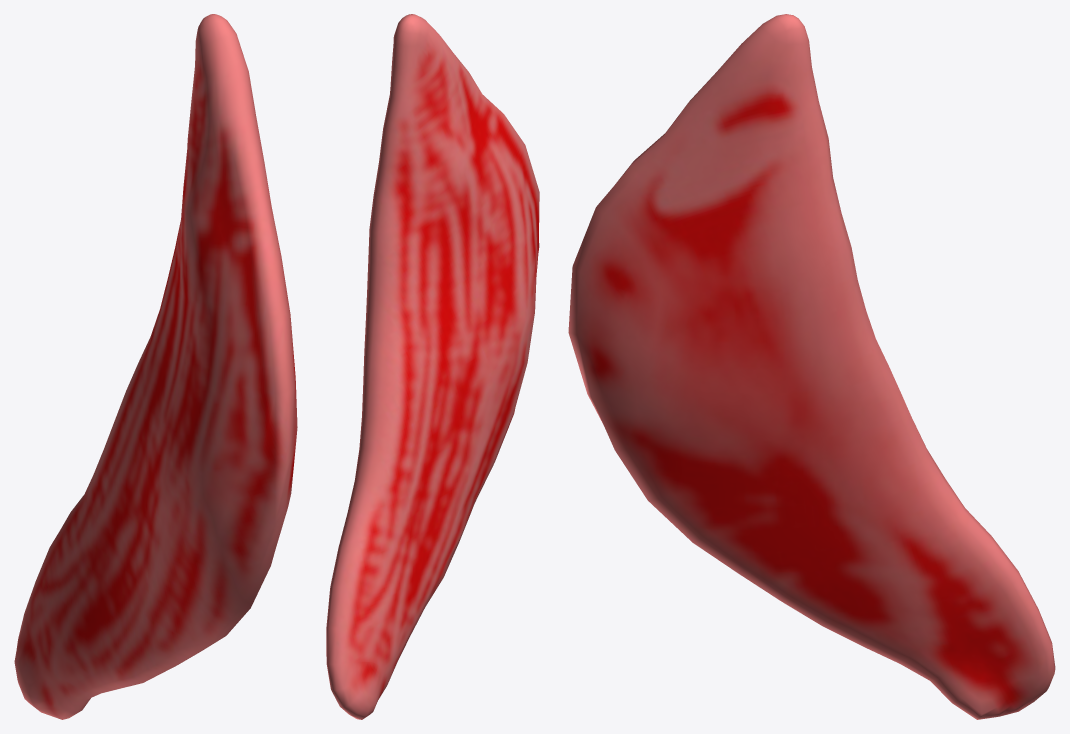
Rendered from Tricep.glb.
3 views of the same model, side by side, from view 1: azimuth 30°, elevation 25°; view 2: azimuth 150°, elevation 25°; view 3: azimuth 270°, elevation 25° (orthographic). The views are drawn at different scales.
Visible parts, largest first — view 1: MuscleTricep_R1.009; view 2: MuscleTricep_R1.009; view 3: MuscleTricep_R1.009.
Boxes of the visible parts, box(x1,y1,x2,y2) form: MuscleTricep_R1.009: box(14, 14, 297, 719); MuscleTricep_R1.009: box(326, 14, 539, 719); MuscleTricep_R1.009: box(568, 14, 1055, 719).
Bounding box in the file's own units: 0.0399 × 0.2555 × 0.1551.
Materials: 1 (1 with a texture image).
